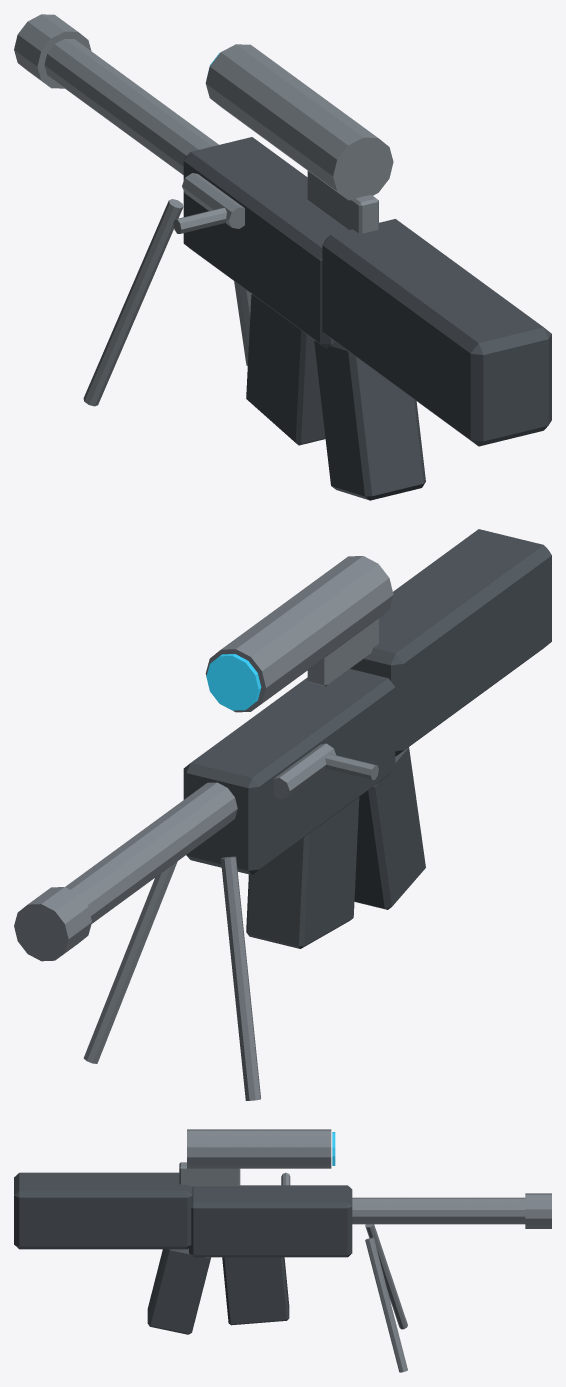
The model's file is WPN_Rifle_Sniper_A_TP_v01.glb.
3 views of the same model, one above another, from view 1: azimuth 30°, elevation 25°; view 2: azimuth 150°, elevation 25°; view 3: azimuth 270°, elevation 25° (orthographic). The views are drawn at different scales.
Visible parts, largest first — view 1: MESH_Weapon, MESH_Magazine, MESH_Bipod, MESH_MuzzleAssembly, MESH_Bolt, MESH_BoltHandle; view 2: MESH_Weapon, MESH_Magazine, MESH_Bipod, MESH_MuzzleAssembly, MESH_ScopeLens, MESH_Bolt, MESH_BoltHandle; view 3: MESH_Weapon, MESH_Magazine, MESH_Bipod, MESH_MuzzleAssembly.
Part boxes in pixels (x1,y1,x2,y2): MESH_Weapon: (44,39,551,500); MESH_Magazine: (246,294,325,445); MESH_Bipod: (83,199,251,406); MESH_MuzzleAssembly: (14,14,91,88); MESH_Bolt: (182,173,244,228); MESH_BoltHandle: (173,208,226,233); MESH_Weapon: (65,529,551,923); MESH_Magazine: (246,797,359,948); MESH_Bipod: (83,856,260,1100); MESH_MuzzleAssembly: (14,887,91,961); MESH_ScopeLens: (206,654,261,710); MESH_Bolt: (273,743,335,799); MESH_BoltHandle: (325,754,378,779); MESH_Weapon: (14,1129,525,1334); MESH_Magazine: (222,1257,289,1325); MESH_Bipod: (365,1224,407,1372); MESH_MuzzleAssembly: (525,1193,551,1228).
Size of the model in its own units: 0.3216 by 0.6363 by 1.42.
